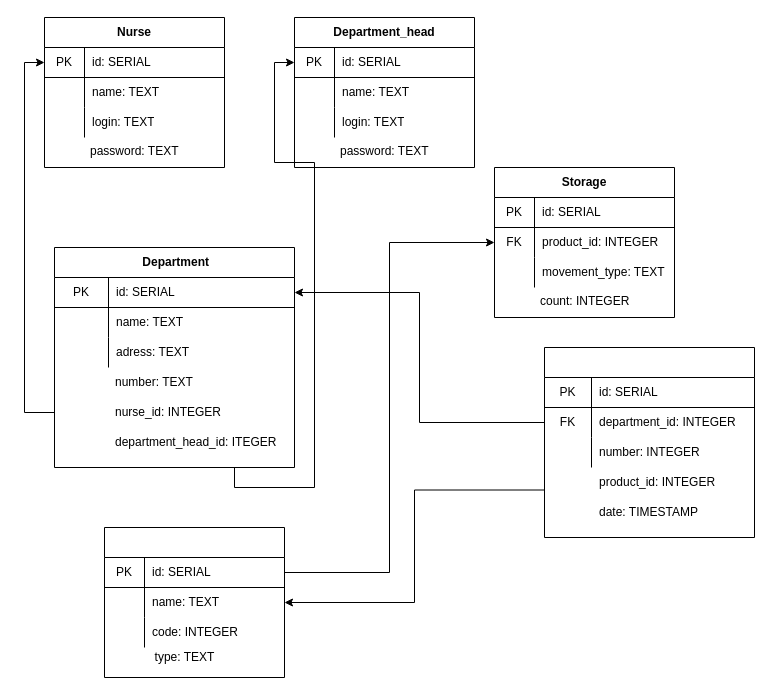
This 772x695 diagram has some shape labels left out. Here are the shapes that lost their labels. From the top down, the box of each, then its label:
(544, 346, 754, 538): Waybill
(104, 526, 284, 678): Product
